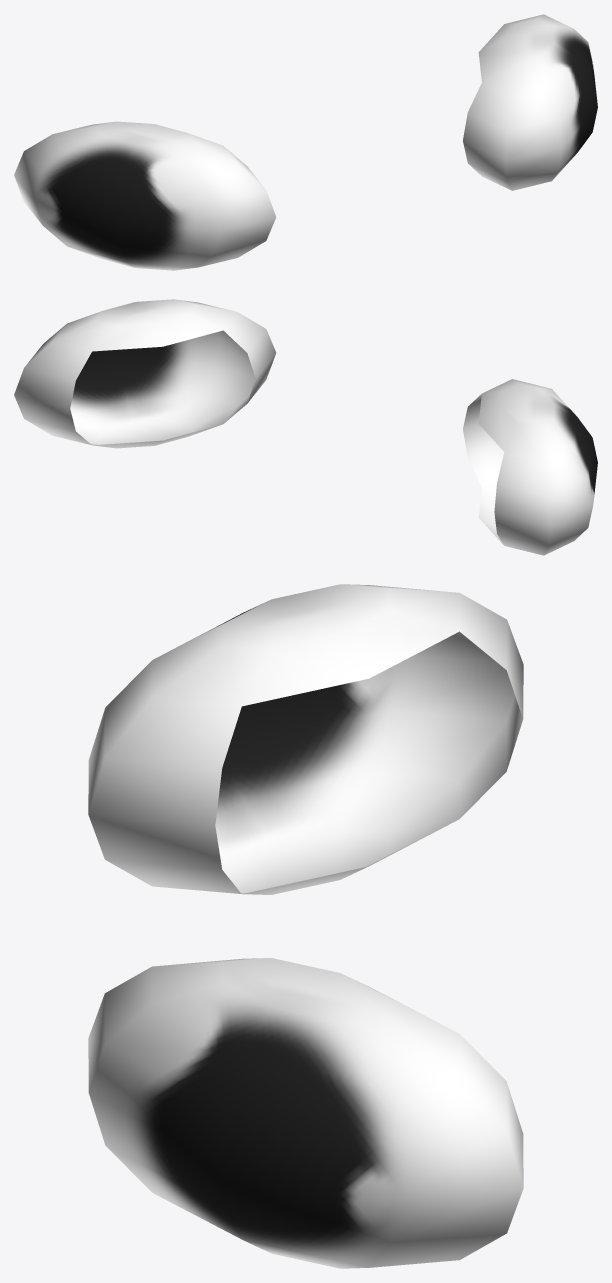
File: ParteOlhoDiurno.fbx
The picture shows the model from 3 angles, top to bottom: view 1: azimuth 30°, elevation 25°; view 2: azimuth 150°, elevation 25°; view 3: azimuth 270°, elevation 25°; orthographic projection. The views are drawn at different scales.
Parts seen in each view (by area): view 1: ParteOlhoDiurno; view 2: ParteOlhoDiurno; view 3: ParteOlhoDiurno.
Boxes of the visible parts, x1,y1,x2,y2 form: ParteOlhoDiurno: (14, 14, 597, 270); ParteOlhoDiurno: (14, 299, 597, 555); ParteOlhoDiurno: (88, 584, 523, 1268).
Bounding box in the file's own units: 46.82 × 9.82 × 15.8.
